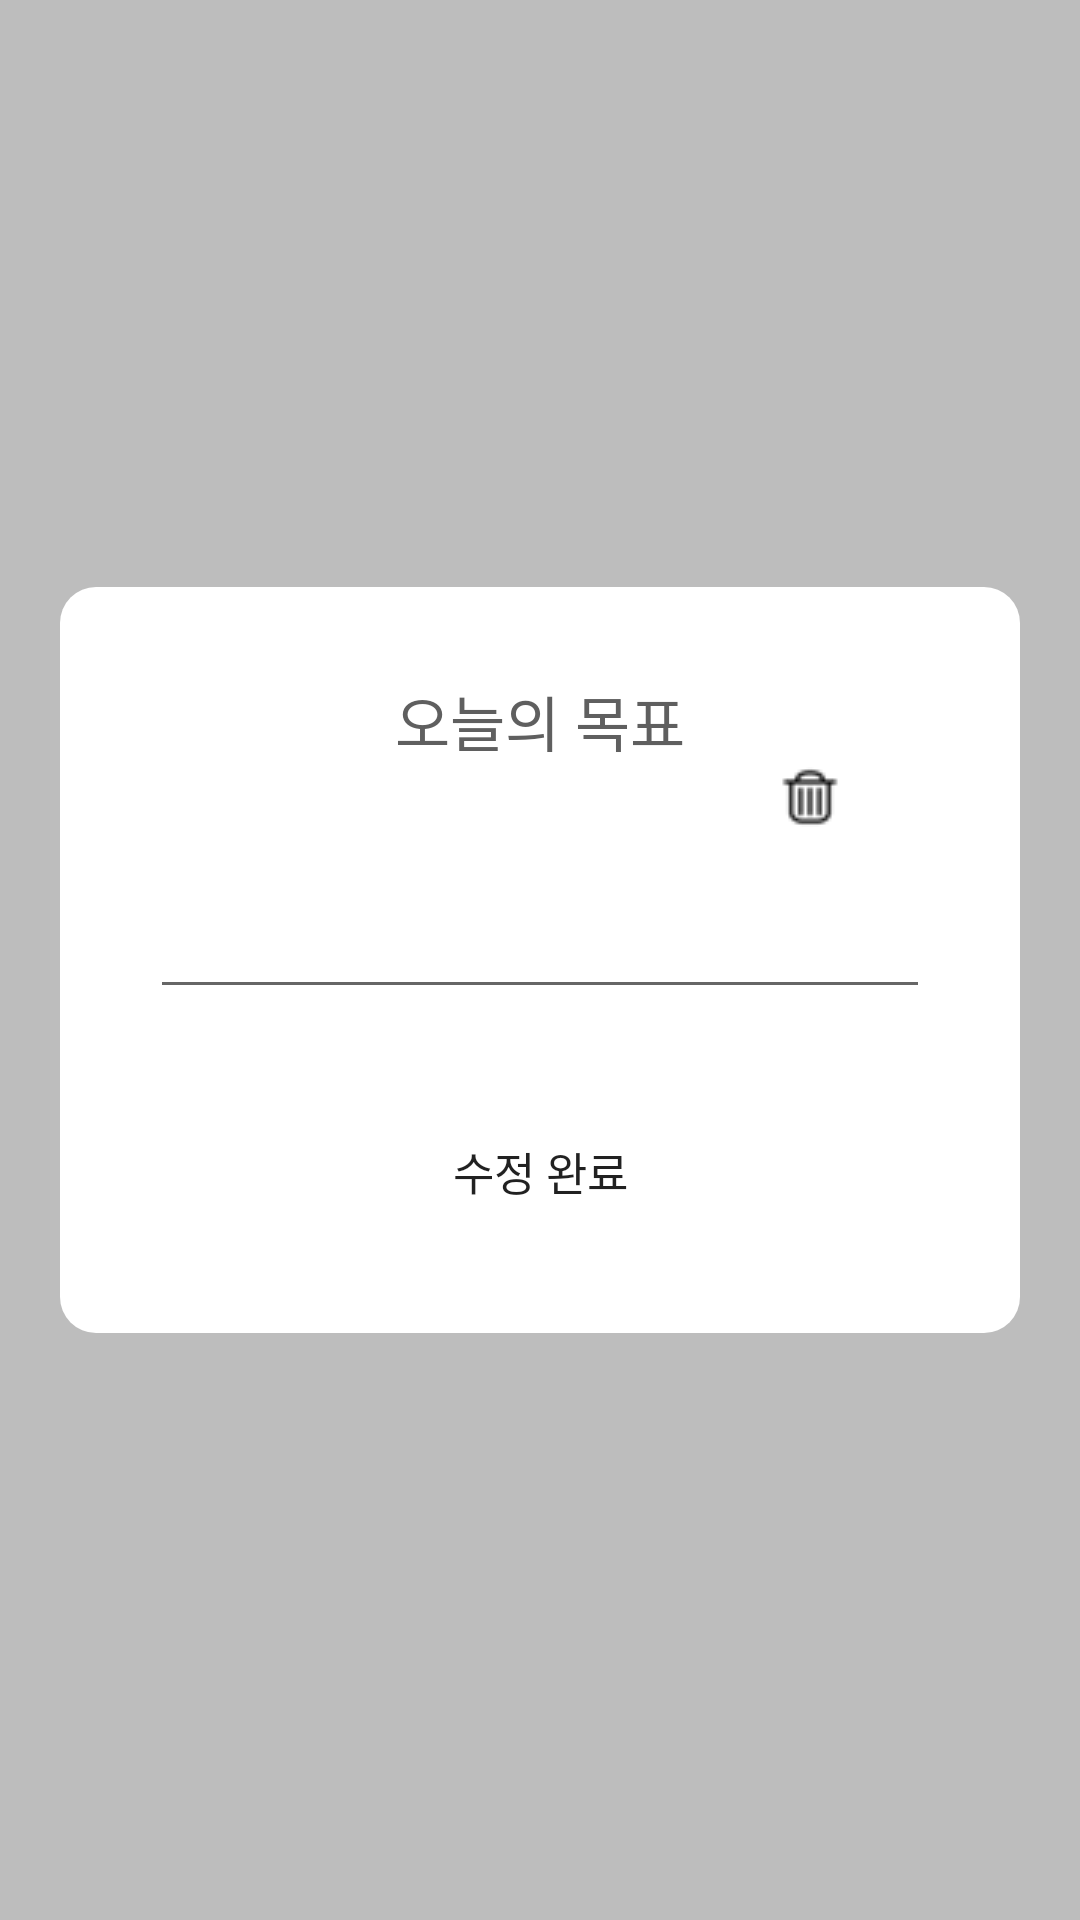

Icons on this 1080 x 1920 Android screen, each with the point to tap as [x,y]:
trash: [810,797]
